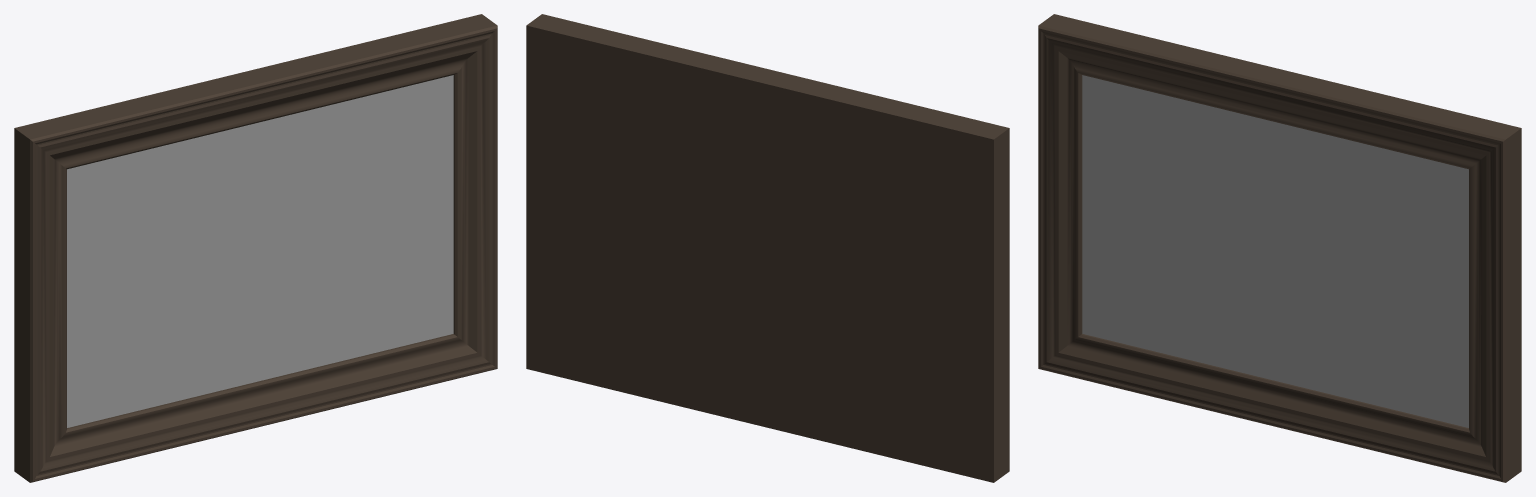
File: frame_low.fbx
3 views of the same model, side by side, from view 1: azimuth 30°, elevation 25°; view 2: azimuth 150°, elevation 25°; view 3: azimuth 330°, elevation 25° (orthographic).
Parts seen in each view (by area): view 1: picture, frameBase; view 2: frameBase; view 3: picture, frameBase.
Boxes of the visible parts, x1,y1,x2,y2 form: picture: (67, 75, 453, 427); frameBase: (14, 14, 497, 482); frameBase: (526, 14, 1009, 482); picture: (1082, 75, 1468, 427); frameBase: (1038, 14, 1521, 482).
Bounding box in the file's own units: 182 × 128 × 11.34.
